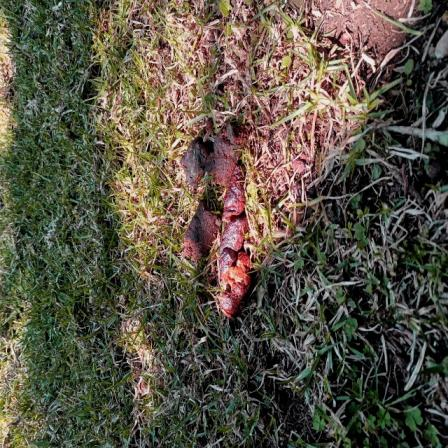dog-poop: (175, 120, 263, 318)
